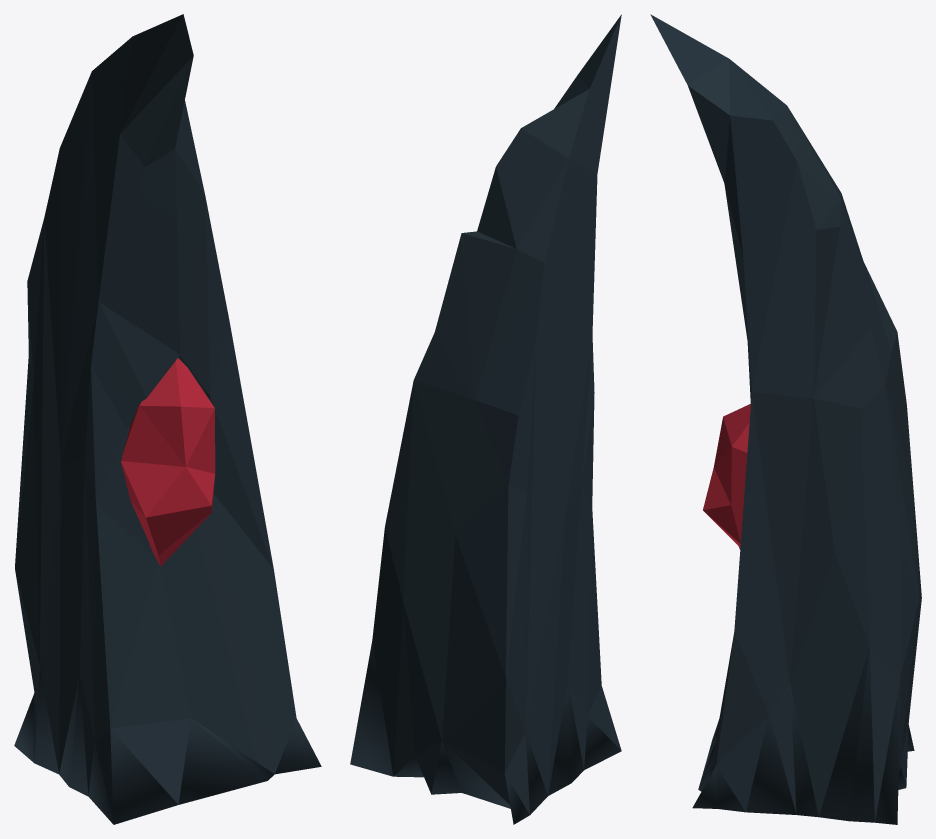
The model's file is portalClaw.fbx.
The picture shows the model from 3 angles, left to right: view 1: azimuth 30°, elevation 25°; view 2: azimuth 150°, elevation 25°; view 3: azimuth 270°, elevation 25°; orthographic projection. The views are drawn at different scales.
Visible parts, largest first — view 1: Cylinder.002; view 2: Cylinder.002; view 3: Cylinder.002.
Part boxes in pixels (x1,y1,x2,y2): Cylinder.002: (14, 14, 321, 824); Cylinder.002: (350, 14, 621, 824); Cylinder.002: (650, 14, 921, 824).
Bounding box in the file's own units: 731 × 2734 × 899.
